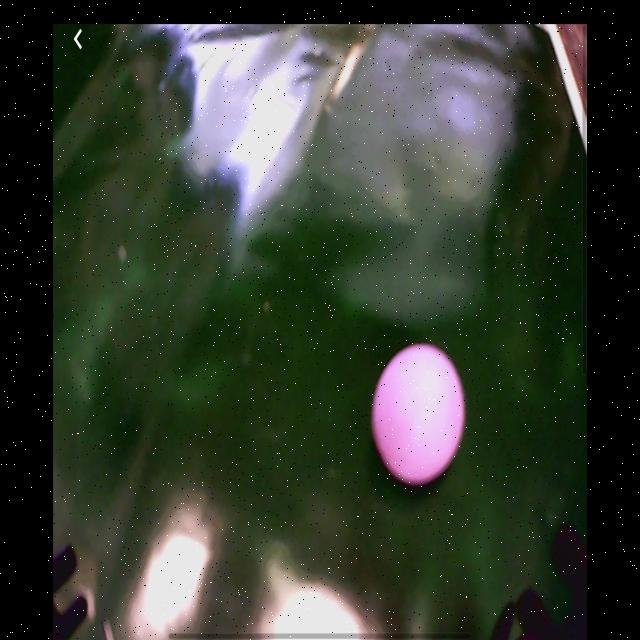ball: (372, 343, 467, 487)
